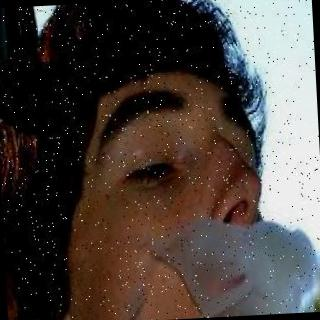smoke: (153, 205, 316, 320)
